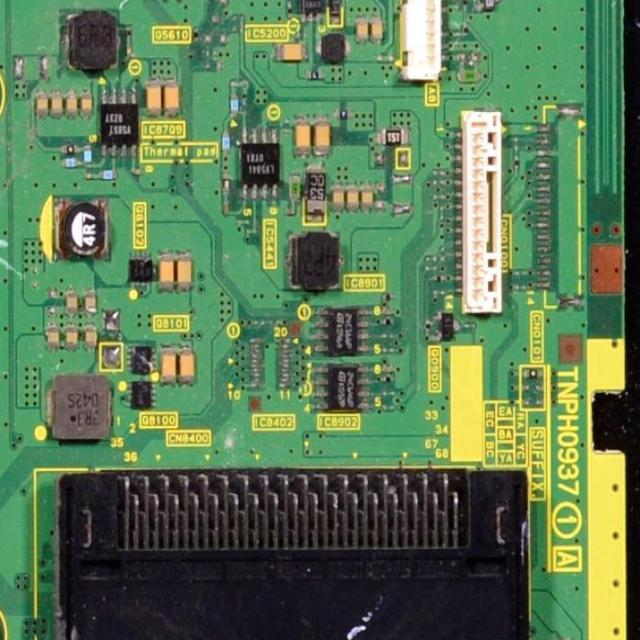IC: (452, 110, 504, 314), (237, 125, 284, 201), (96, 84, 140, 162), (310, 360, 373, 414), (312, 310, 374, 356), (298, 0, 325, 24), (375, 127, 407, 144)
capacitor: (144, 77, 165, 118), (277, 40, 309, 66), (291, 119, 312, 153), (178, 345, 197, 382), (312, 120, 333, 153), (161, 344, 179, 382), (160, 252, 176, 294), (176, 254, 194, 291), (165, 78, 181, 117), (332, 184, 349, 216), (64, 289, 83, 317), (33, 86, 49, 119), (344, 185, 362, 214), (48, 87, 64, 119), (359, 184, 375, 215), (369, 16, 386, 44), (356, 18, 372, 46), (66, 86, 80, 118), (81, 289, 98, 315), (61, 327, 80, 350), (80, 88, 94, 117), (48, 322, 61, 350), (83, 322, 97, 346)
resistor: (375, 127, 409, 145)
